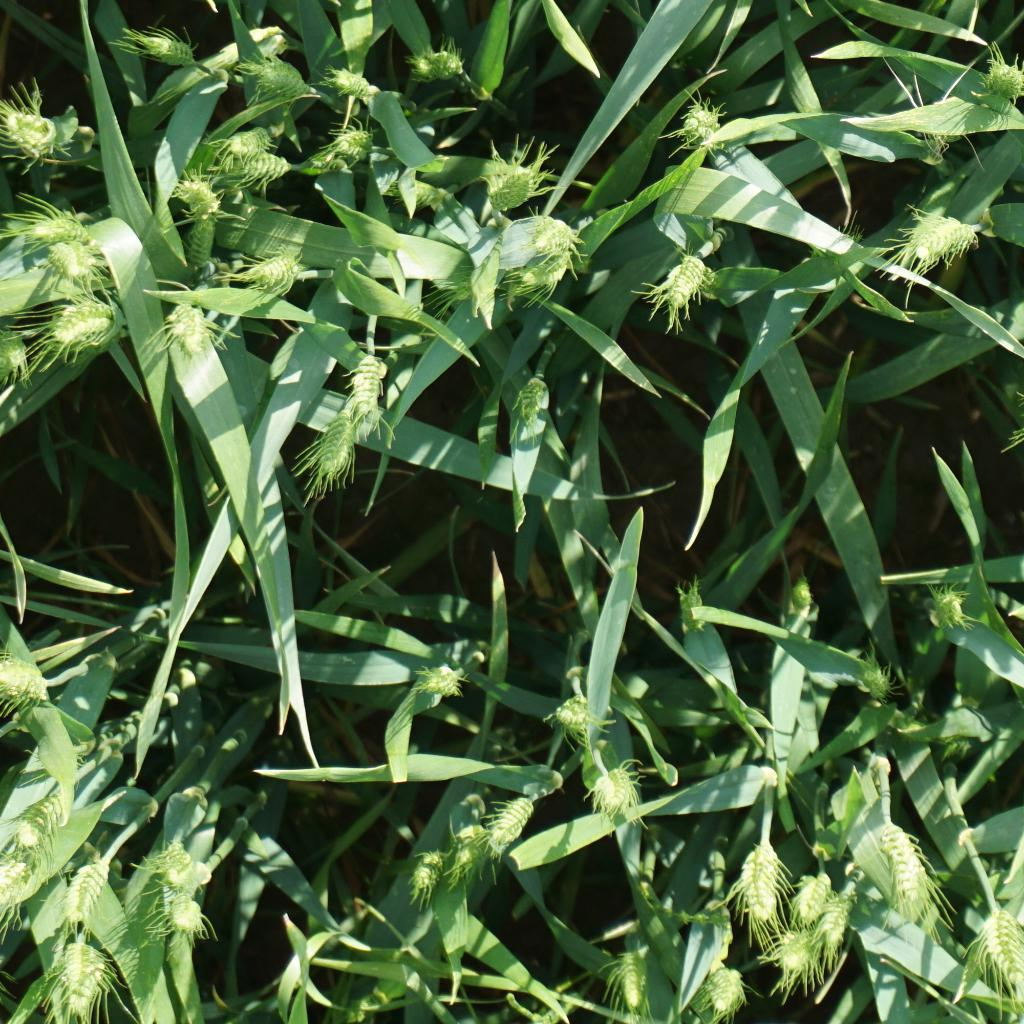0-0: (312, 389, 365, 488), (45, 291, 130, 350), (875, 819, 924, 913), (915, 197, 979, 264), (737, 836, 784, 926), (59, 854, 112, 930), (12, 784, 73, 850), (976, 907, 1024, 988), (0, 99, 64, 156), (815, 872, 854, 965), (485, 154, 548, 211), (0, 833, 43, 912), (515, 245, 590, 289), (60, 941, 104, 1015), (225, 252, 301, 294), (583, 764, 637, 823), (660, 243, 707, 309), (776, 911, 826, 973), (2, 210, 96, 242), (348, 348, 382, 432), (488, 791, 538, 848), (47, 233, 105, 282), (452, 816, 489, 890), (226, 143, 297, 181), (699, 967, 750, 1016), (0, 651, 52, 699), (176, 172, 229, 218), (244, 61, 310, 97), (321, 123, 379, 163), (129, 28, 189, 65), (615, 941, 648, 1008), (165, 302, 211, 350), (793, 866, 829, 926), (160, 891, 207, 936), (675, 96, 717, 146), (218, 122, 278, 156), (525, 220, 585, 253), (415, 659, 468, 695), (513, 367, 550, 418), (158, 845, 203, 886), (549, 696, 606, 728), (178, 218, 220, 261), (925, 587, 971, 626), (396, 181, 453, 208), (0, 331, 30, 382), (669, 583, 706, 622), (984, 61, 1024, 97), (415, 48, 464, 77), (328, 67, 375, 95), (412, 844, 437, 892), (861, 658, 891, 695)
